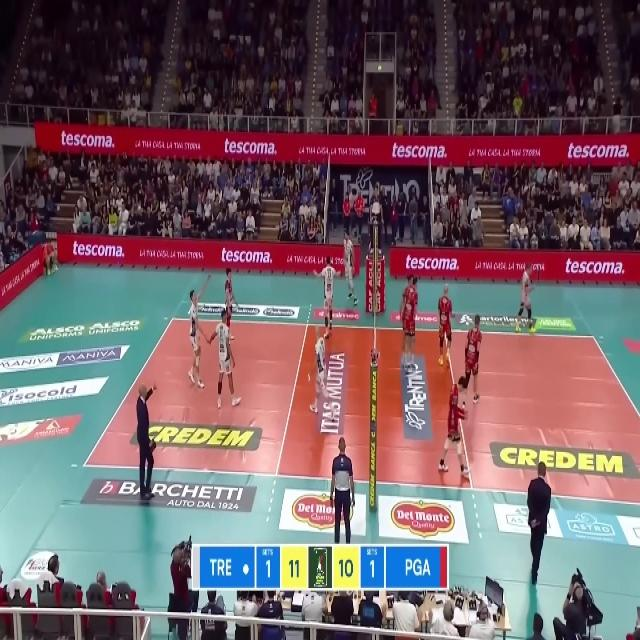volleyball court: (82, 314, 639, 502)
